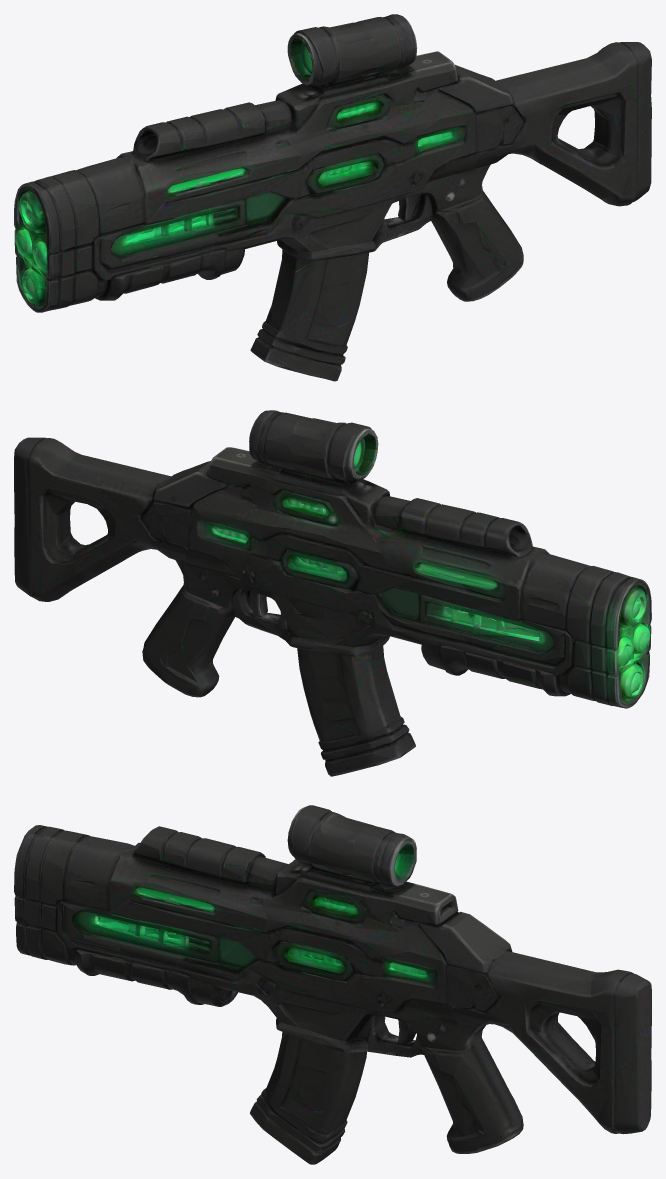
Rendered from laser_energia.glb.
3 renders of one model, top to bottom at view 1: azimuth 30°, elevation 25°; view 2: azimuth 150°, elevation 25°; view 3: azimuth 330°, elevation 25°, orthographic.
Visible parts, largest first — view 1: output_unwrapped; view 2: output_unwrapped; view 3: output_unwrapped.
Part boxes in pixels (bbox=[...]): output_unwrapped: bbox=[14, 14, 651, 381]; output_unwrapped: bbox=[14, 410, 651, 776]; output_unwrapped: bbox=[14, 805, 651, 1164].
Size of the model in its own units: 1.9 by 1.01 by 0.2274.
1 material, 1 textured.
